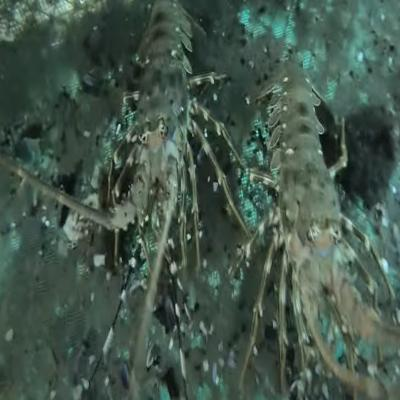lobster: (111, 4, 196, 264), (266, 66, 350, 322)
